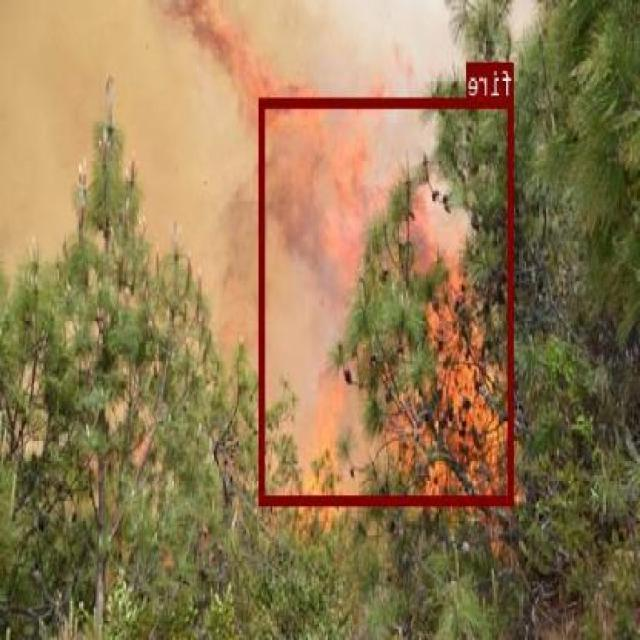Fire: (260, 97, 514, 503)
